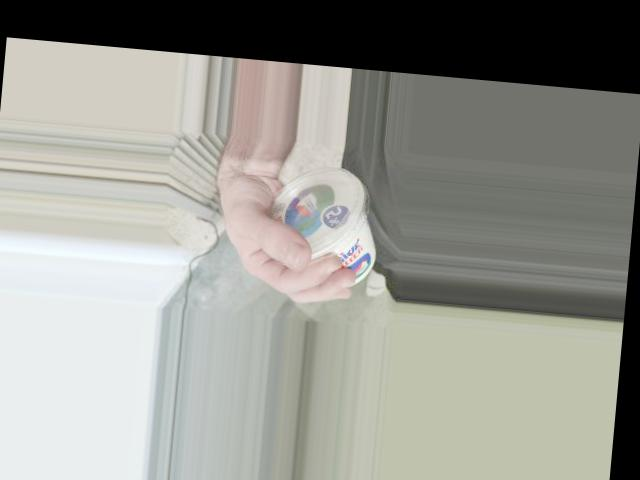cotage: (266, 157, 383, 293)
